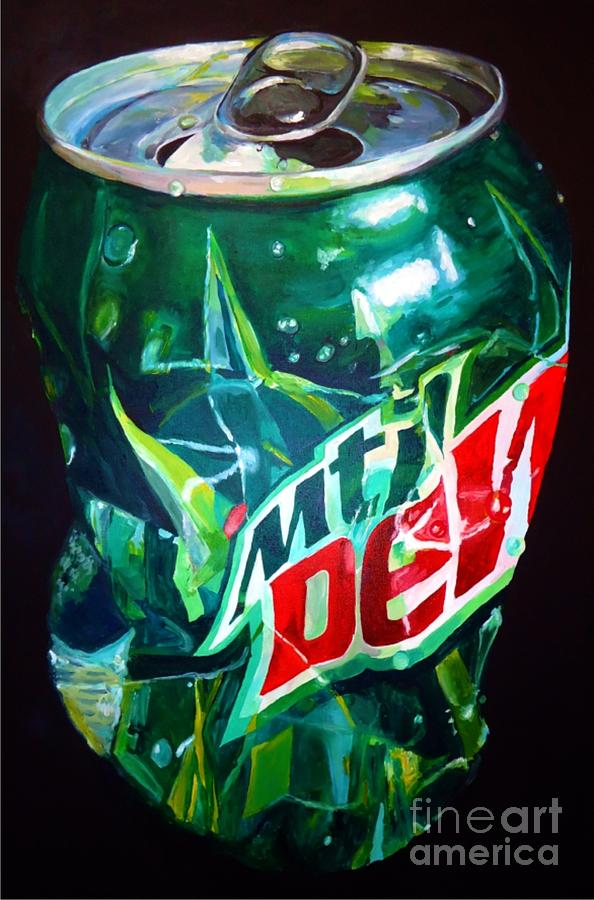can: (27, 32, 576, 872)
